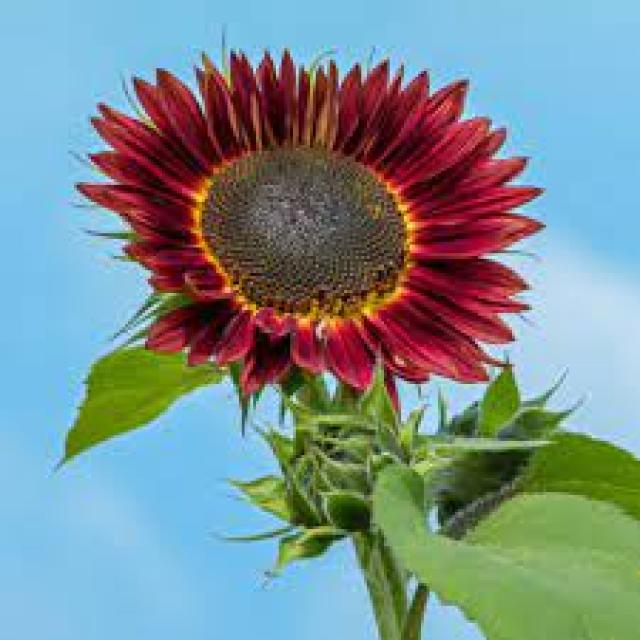sunflower: (63, 33, 556, 403)
